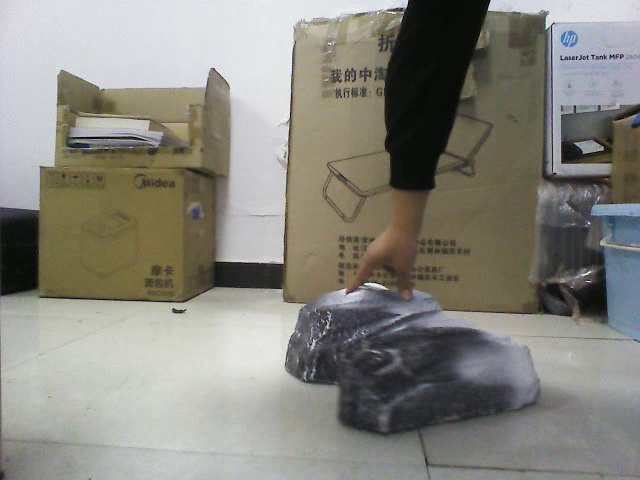rock: (280, 281, 544, 424)
